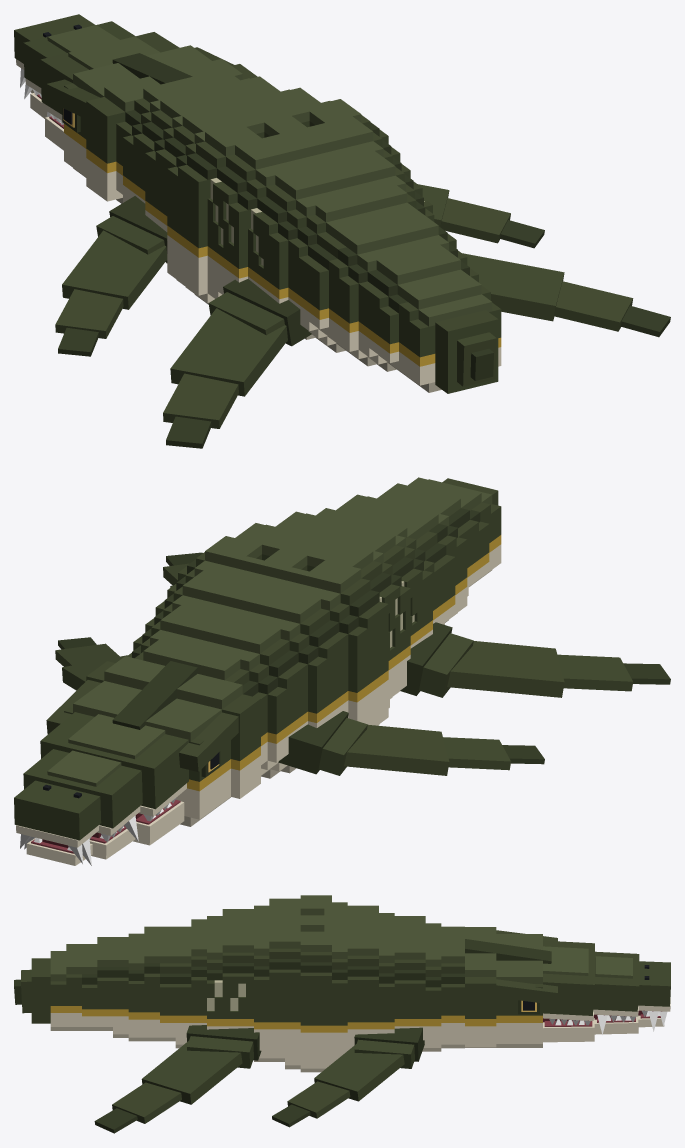
File: Kronosaurus.obj
3 views of the same model, one above another, from view 1: azimuth 30°, elevation 25°; view 2: azimuth 150°, elevation 25°; view 3: azimuth 270°, elevation 25° (orthographic). The views are drawn at different scales.
Parts seen in each view (by area): view 1: Body, Head, Hip, FlipperBL, T3, FlipperFL, T1, T2, FlipperBR, FlipperFR, Neck, Jaw; view 2: Body, Head, FlipperBL, FlipperFL, Hip, T1, T2, T3, Neck, Jaw, FlipperFR, FlipperBR; view 3: Body, Head, FlipperBR, Hip, FlipperFR, T3, T1, T2, Neck, Jaw.
Boxes of the visible parts, x1,y1,x2,y2 form: Body: [123, 76, 410, 304]; Head: [14, 14, 257, 203]; Hip: [248, 151, 434, 344]; FlipperBL: [163, 279, 311, 448]; T3: [379, 269, 501, 393]; FlipperFL: [55, 196, 167, 356]; T1: [299, 202, 456, 358]; T2: [339, 235, 478, 371]; FlipperBR: [462, 253, 670, 337]; FlipperFR: [417, 184, 544, 248]; Neck: [116, 69, 239, 194]; Jaw: [30, 89, 63, 150]; Body: [127, 523, 410, 778]; Head: [14, 656, 260, 865]; FlipperBL: [400, 622, 670, 697]; FlipperFL: [278, 711, 544, 775]; Hip: [275, 508, 434, 648]; T1: [336, 494, 456, 624]; T2: [367, 483, 478, 622]; T3: [408, 477, 501, 586]; Neck: [135, 639, 267, 764]; Jaw: [26, 799, 184, 865]; FlipperFR: [55, 637, 127, 690]; FlipperBR: [163, 552, 202, 587]; Body: [254, 895, 441, 1072]; Head: [465, 927, 670, 1047]; FlipperBR: [94, 1025, 261, 1133]; Hip: [191, 909, 253, 1029]; FlipperFR: [272, 1027, 424, 1127]; T3: [14, 944, 97, 1030]; T1: [144, 926, 191, 1048]; T2: [97, 933, 144, 1041]; Neck: [441, 926, 464, 1048]; Jaw: [543, 1011, 664, 1042].
Size of the model in its own units: 27.94 by 9 by 42.02.
1 material, 1 textured.
